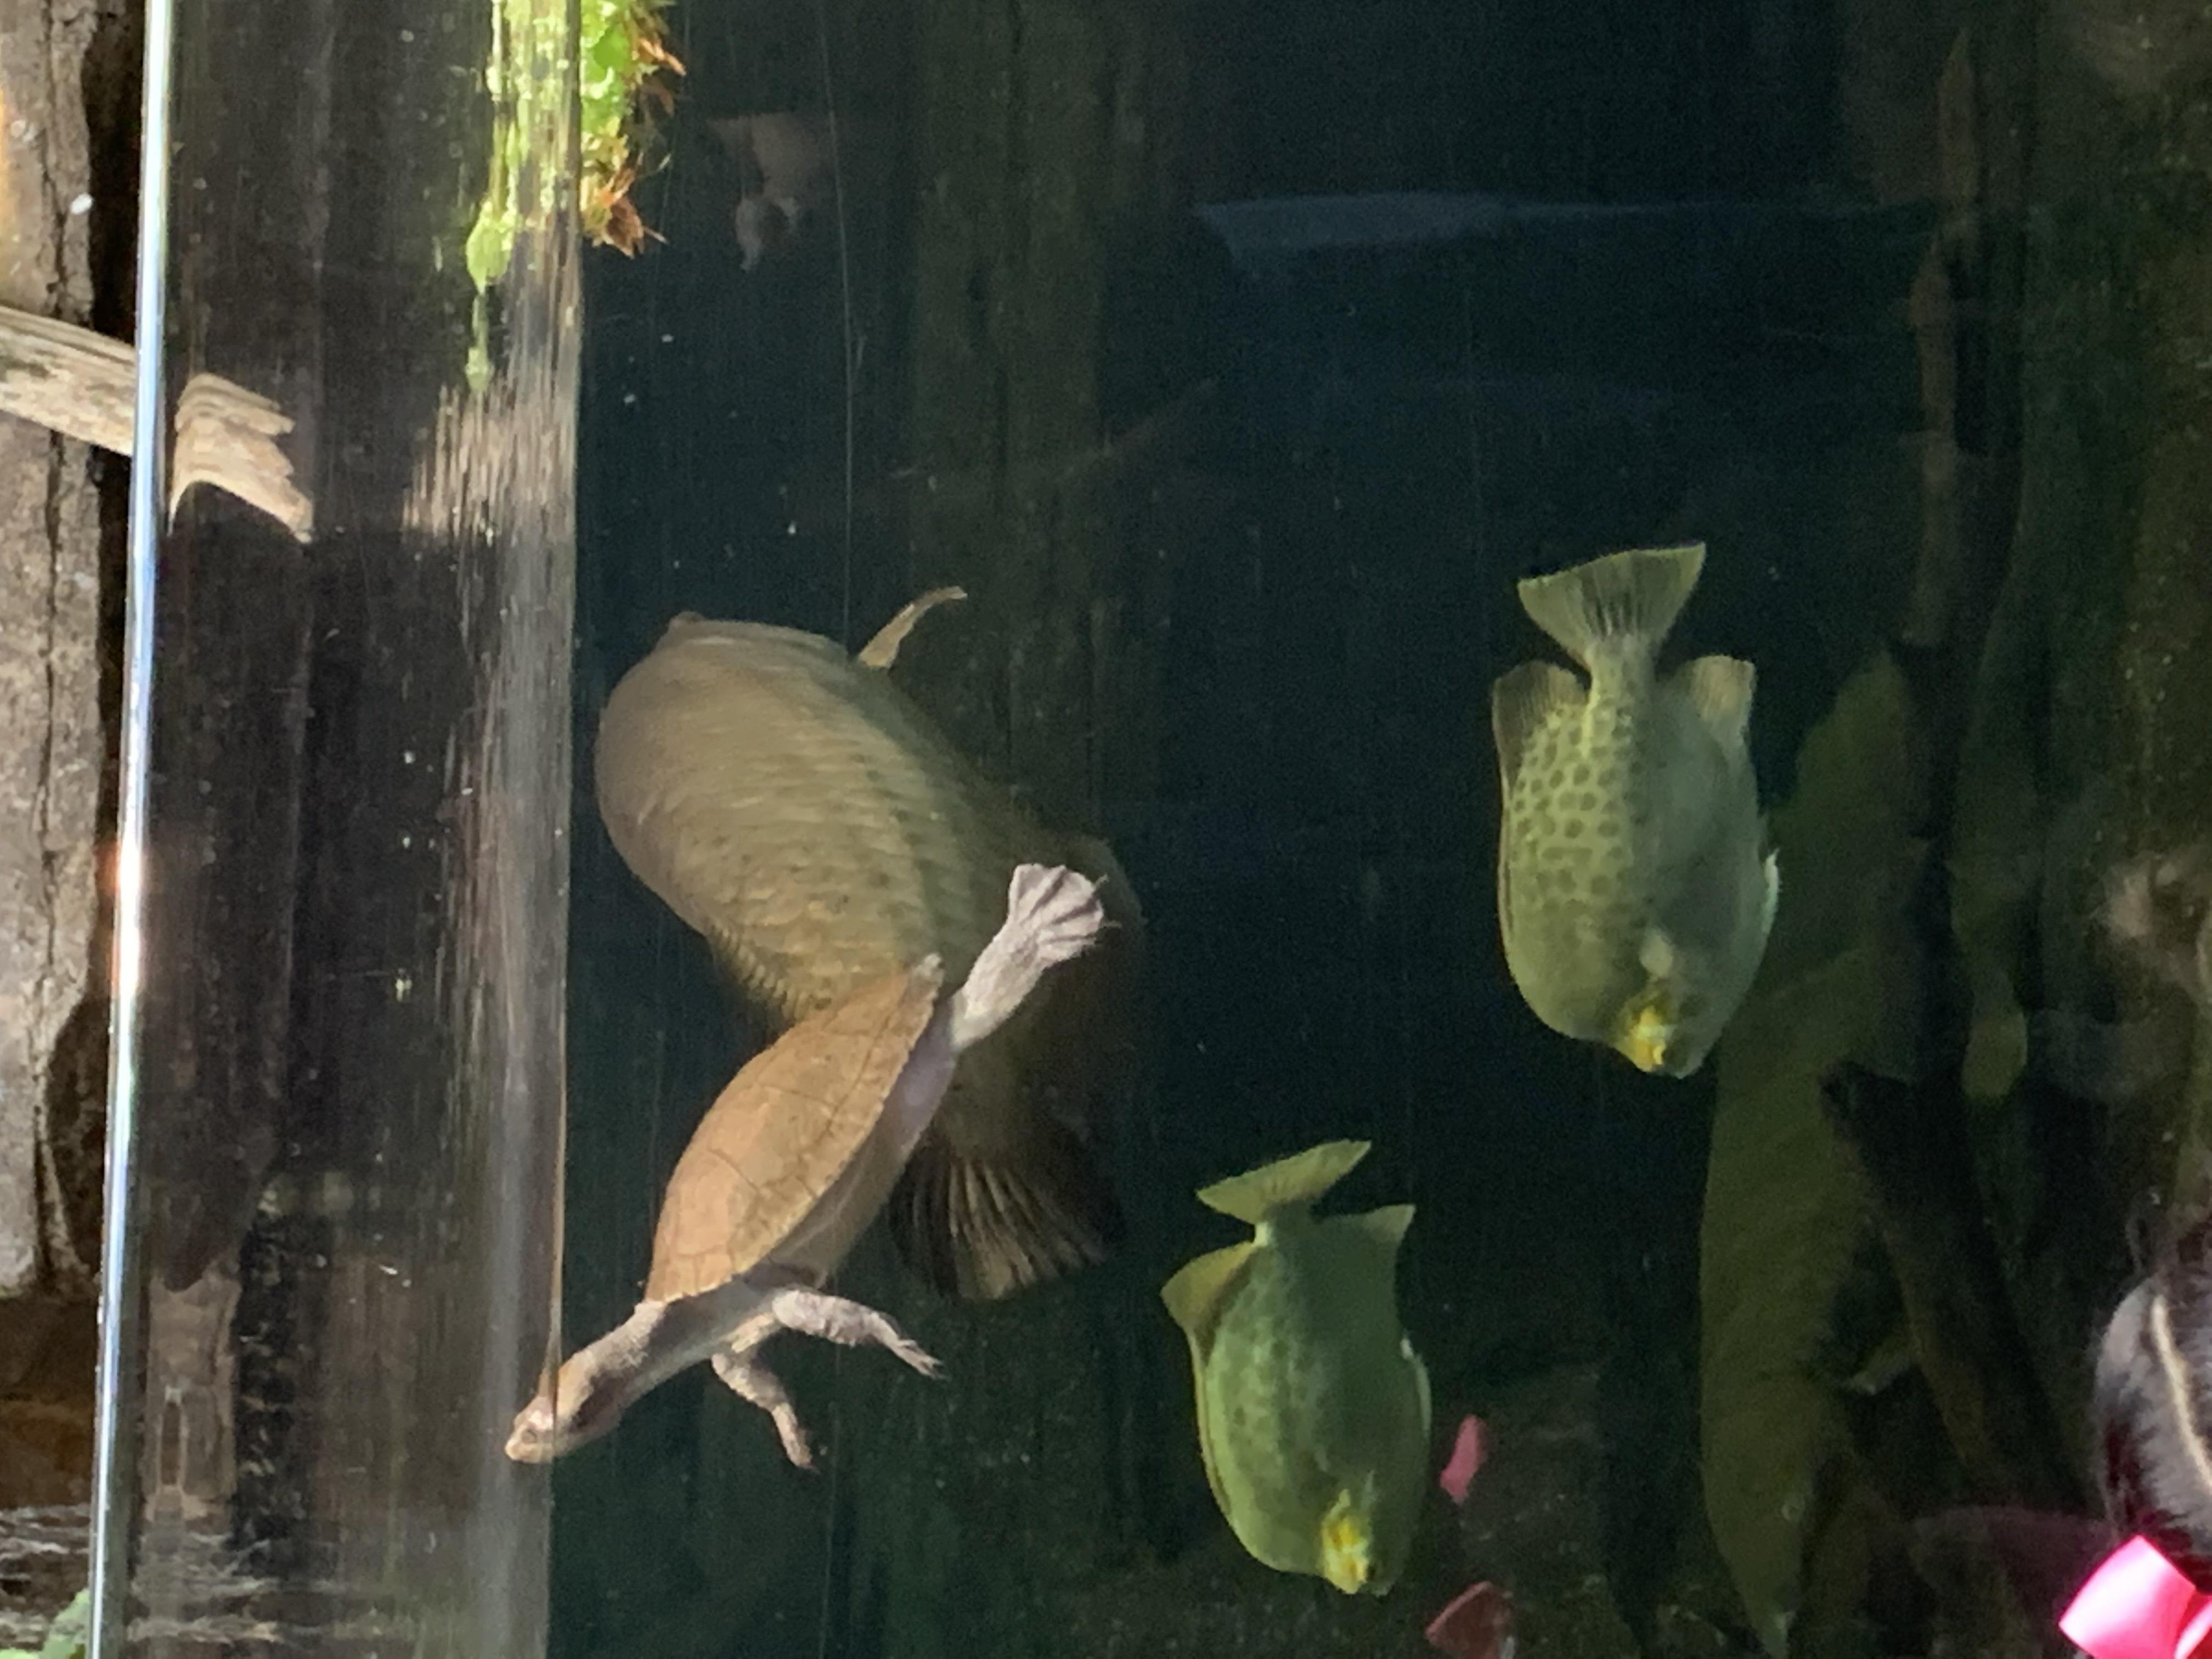fish: (590, 587, 1158, 1307), (1482, 533, 1787, 1087), (1151, 1136, 1437, 1608)
